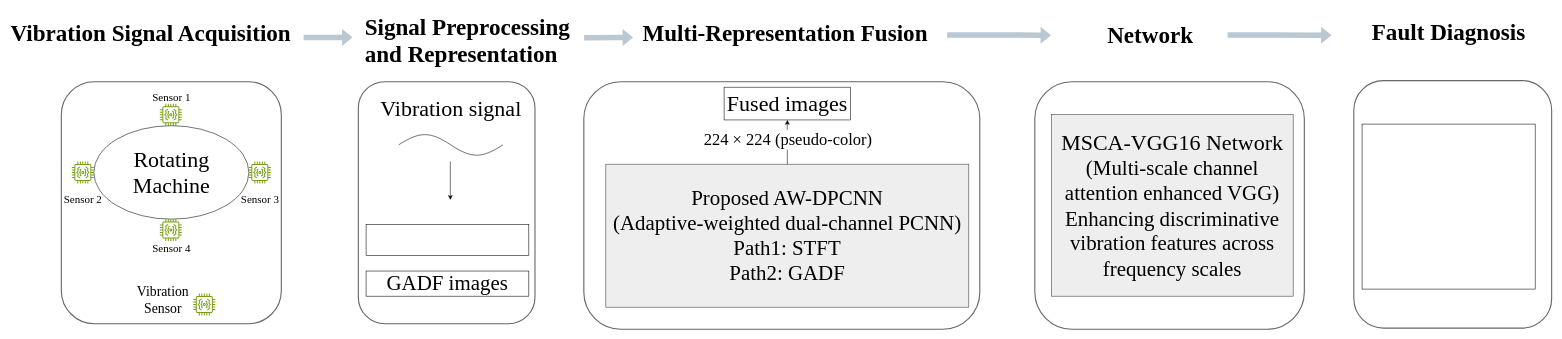
Image size: 1562x339. Some labels were removed from this diagram. The shapes that lost their labels are listed below. From the top down, each one's centre as x and y in pixels, then its label:
point (1448, 206): Normal Fault class 1 Fault class 2 Fault class 3 .......
point (447, 240): STFT spectrogram
